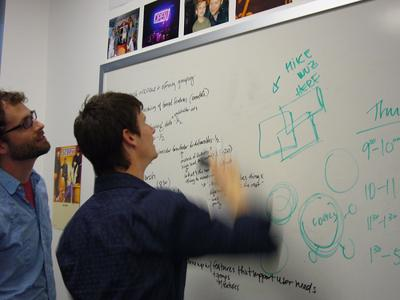person: (56, 91, 274, 300)
